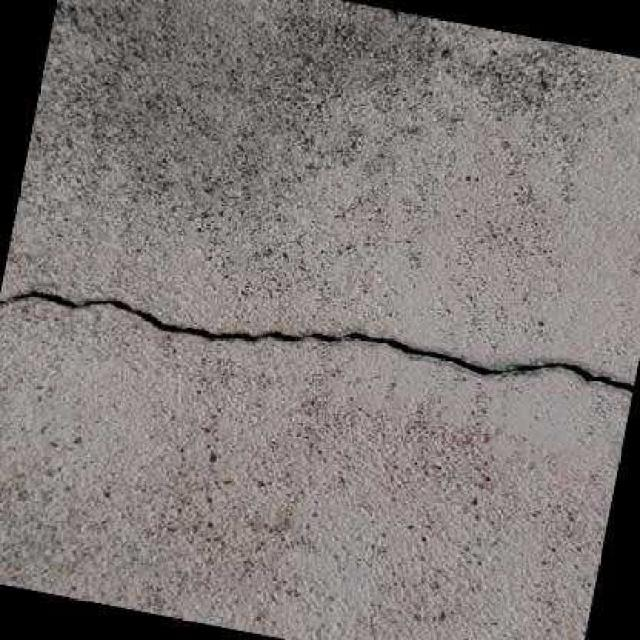D00: (0, 290, 633, 391)
